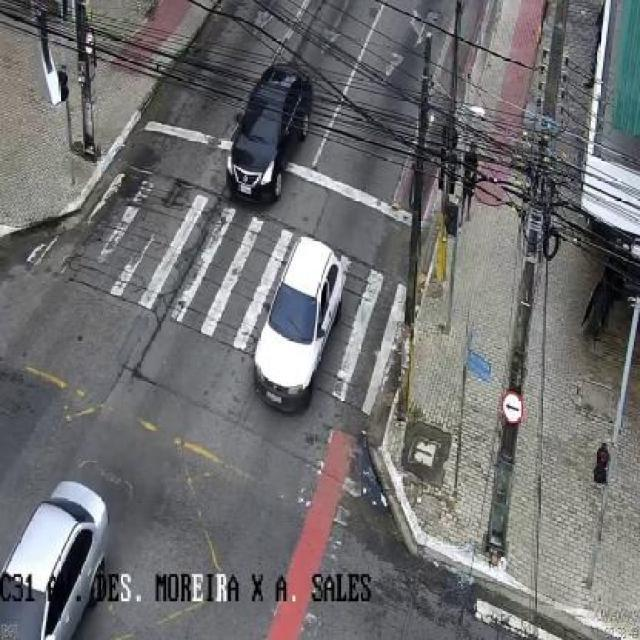Car: (217, 234, 343, 418), (0, 442, 115, 640), (216, 60, 314, 231)
